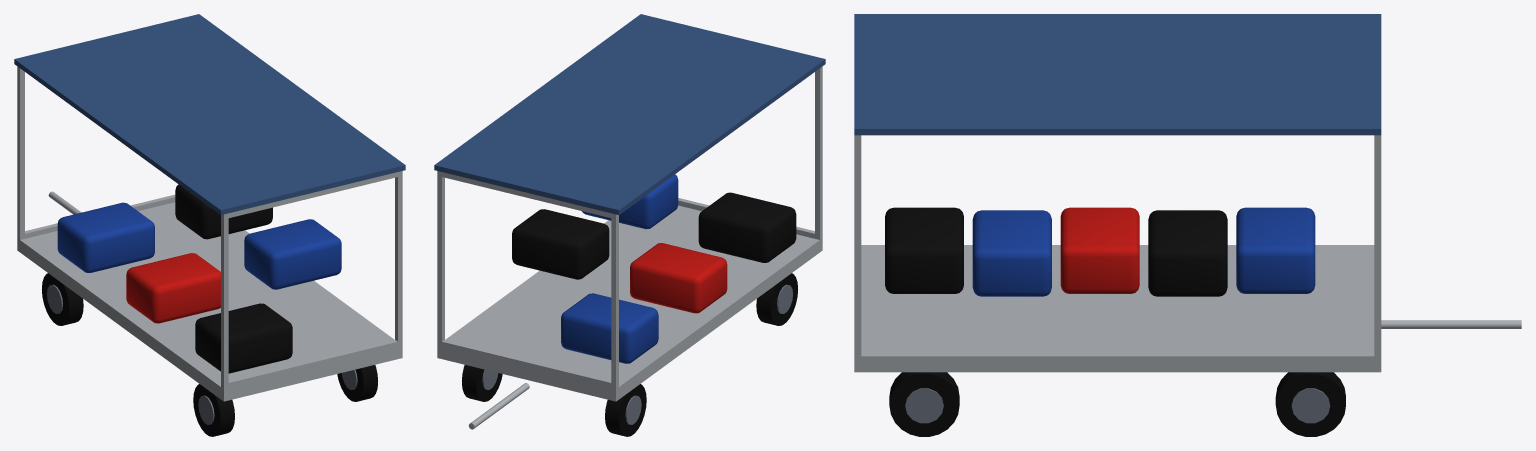
Rendered from airport.airside.baggage_cart.glb.
3 views of the same model, side by side, from view 1: azimuth 30°, elevation 25°; view 2: azimuth 150°, elevation 25°; view 3: azimuth 270°, elevation 25° (orthographic). The views are drawn at different scales.
Visible parts, largest first — view 1: main__fabric_blue, main__steel_galvanised, main__plastic_blue, main__plastic_black, main__plastic_red, main__rubber, main__steel_painted; view 2: main__fabric_blue, main__steel_galvanised, main__plastic_black, main__plastic_blue, main__plastic_red, main__rubber, main__steel_painted; view 3: main__fabric_blue, main__steel_galvanised, main__plastic_blue, main__plastic_black, main__plastic_red, main__rubber, main__steel_painted.
Boxes of the visible parts, x1=… form: main__fabric_blue: x1=14, y1=14, x2=405, y2=214; main__steel_galvanised: x1=17, y1=66, x2=402, y2=401; main__plastic_blue: x1=57, y1=202, x2=341, y2=289; main__plastic_black: x1=175, y1=184, x2=292, y2=373; main__plastic_red: x1=126, y1=253, x2=220, y2=323; main__rubber: x1=42, y1=273, x2=377, y2=436; main__steel_painted: x1=47, y1=284, x2=357, y2=424; main__fabric_blue: x1=434, y1=14, x2=825, y2=214; main__steel_galvanised: x1=437, y1=66, x2=822, y2=429; main__plastic_black: x1=512, y1=192, x2=796, y2=279; main__plastic_blue: x1=561, y1=174, x2=678, y2=363; main__plastic_red: x1=630, y1=243, x2=727, y2=313; main__rubber: x1=462, y1=273, x2=797, y2=436; main__steel_painted: x1=482, y1=284, x2=792, y2=424; main__fabric_blue: x1=854, y1=14, x2=1381, y2=135; main__steel_galvanised: x1=854, y1=135, x2=1521, y2=372; main__plastic_blue: x1=972, y1=207, x2=1315, y2=296; main__plastic_black: x1=885, y1=207, x2=1227, y2=296; main__plastic_red: x1=1060, y1=207, x2=1139, y2=293; main__rubber: x1=889, y1=372, x2=1345, y2=436; main__steel_painted: x1=905, y1=388, x2=1330, y2=423.
Bounding box in the file's own units: 1.55 × 1.99 × 3.8.
